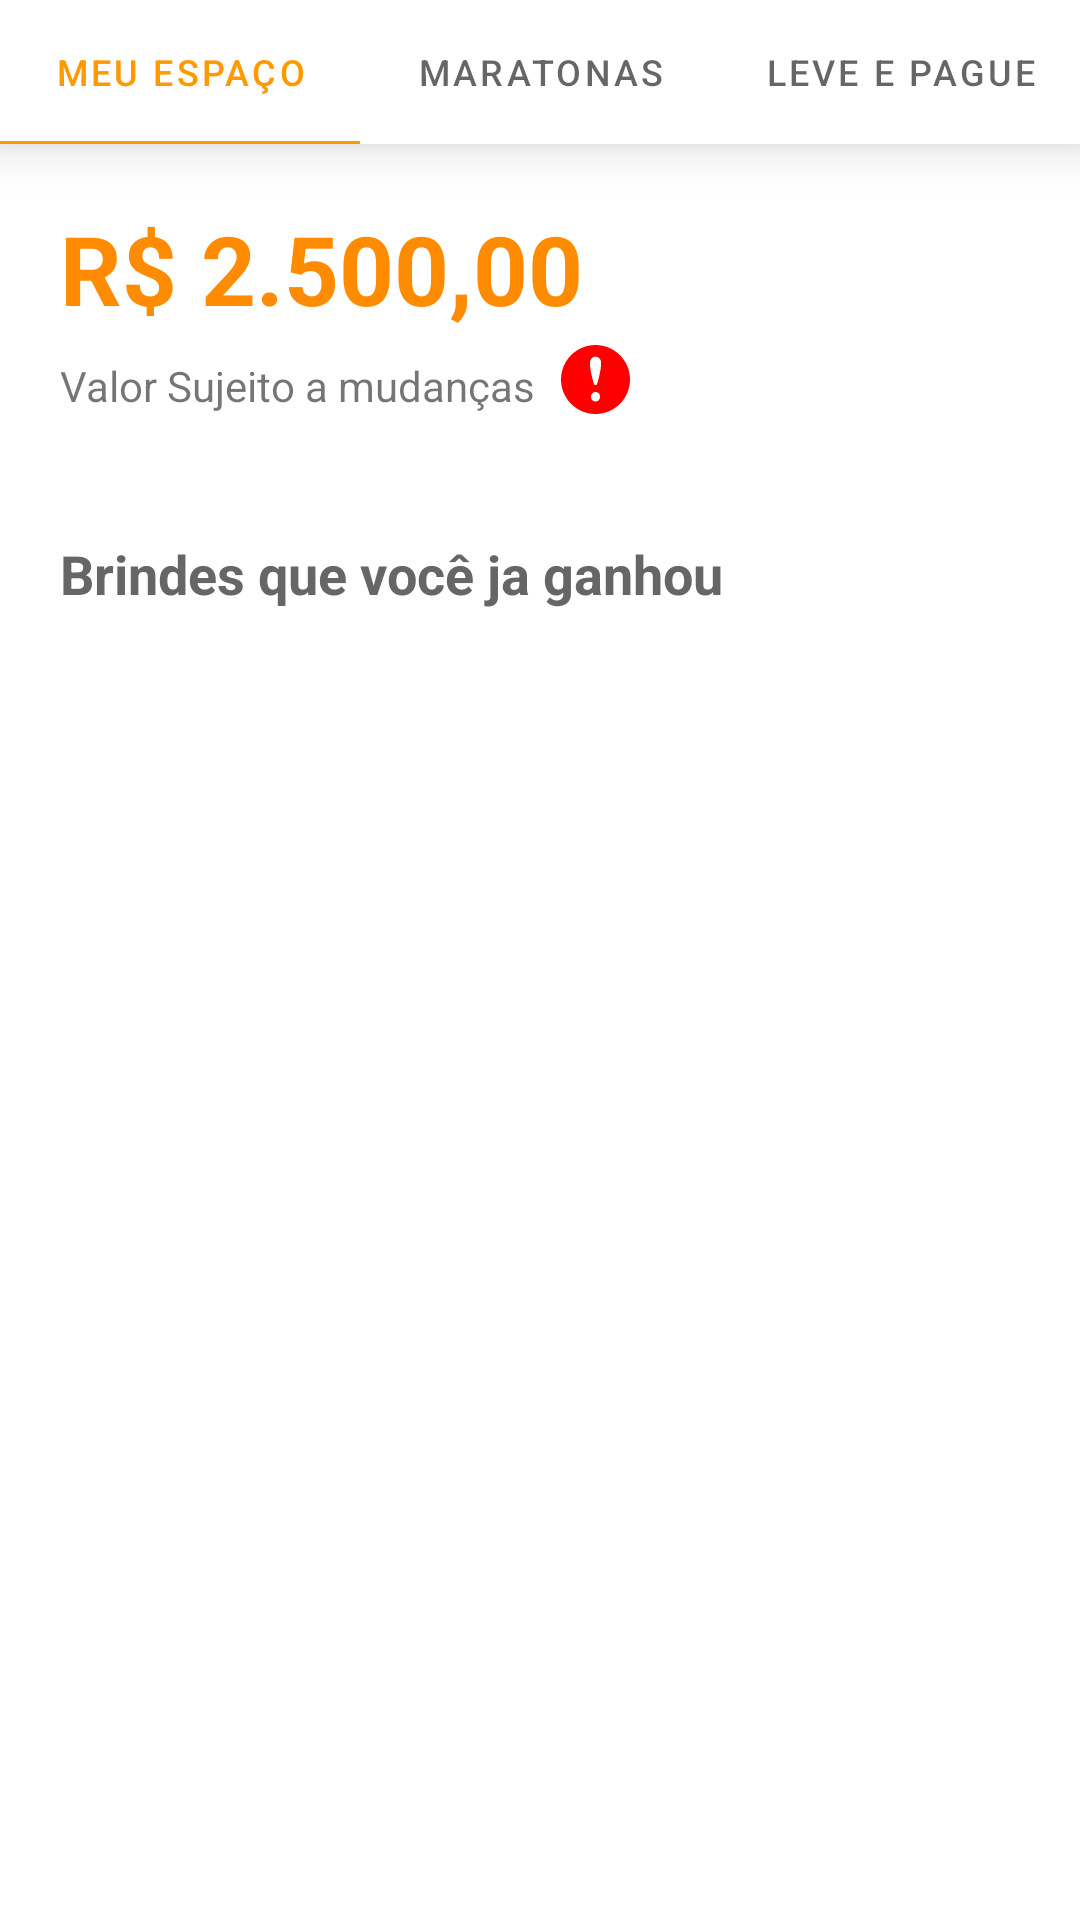

Named icons in this screenshot (1080w x 1920h) and their bounding boxes, (x1, y1, x2, y2):
exclamation mark: (561, 345, 630, 414)
